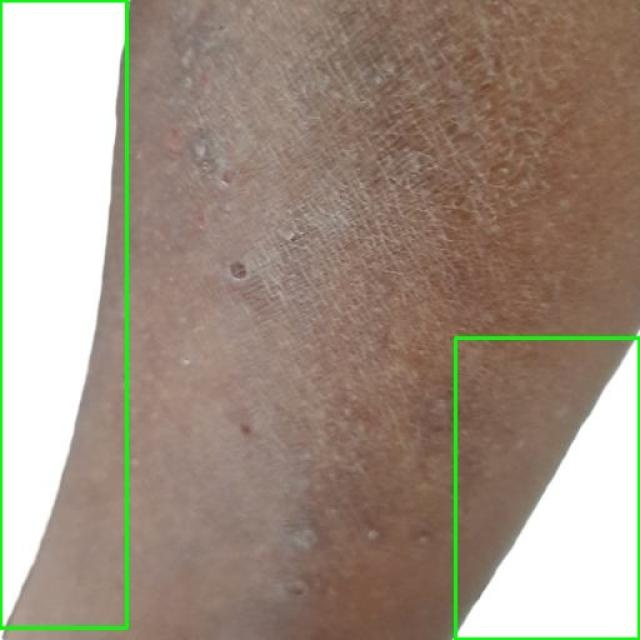Contact Dermatitis: (0, 0, 126, 628), (455, 338, 639, 639)
